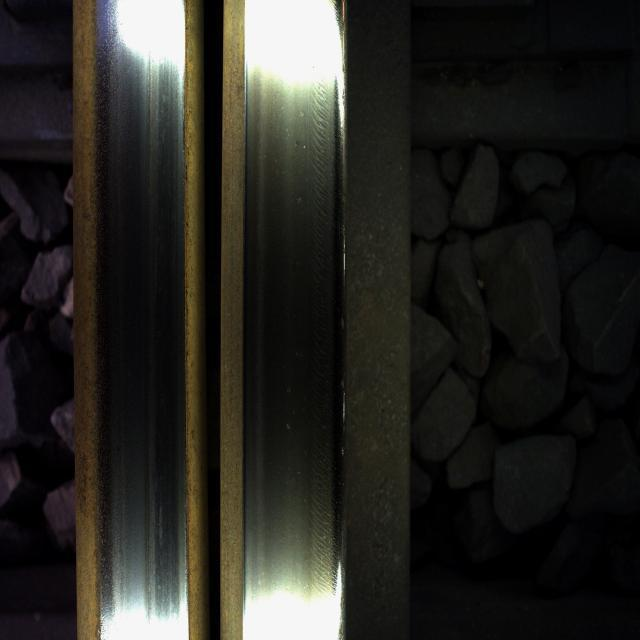break: (98, 55, 188, 565)
normal: (255, 55, 340, 615)
